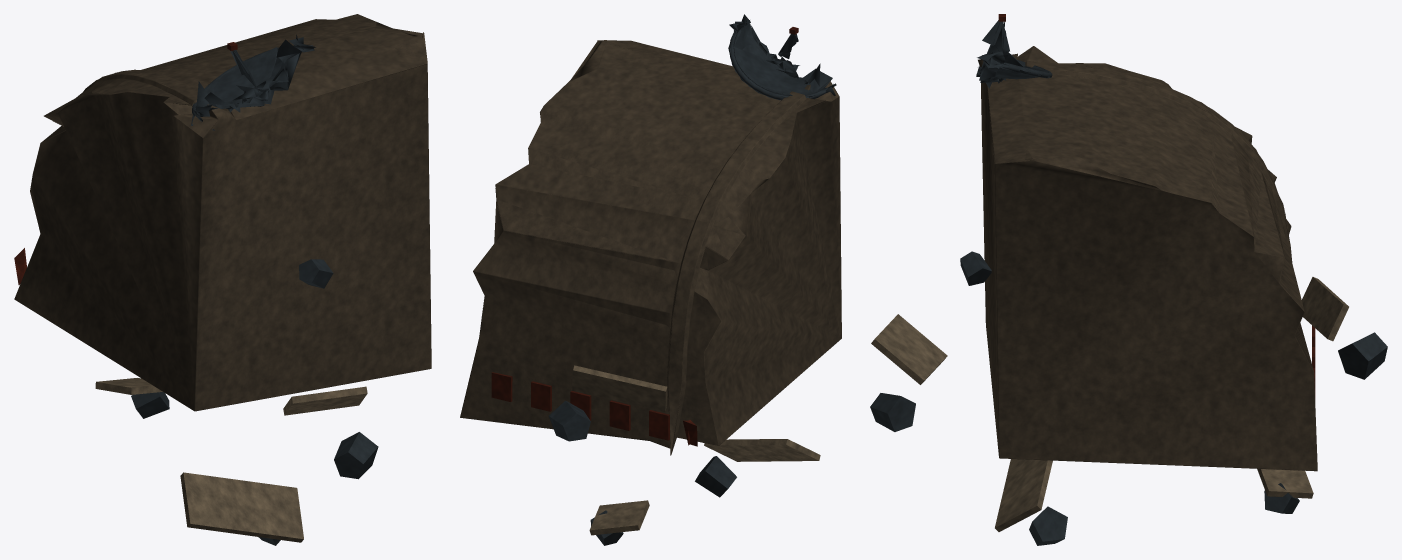
The model's file is deb_liner_hull_panel.glb.
The picture shows the model from 3 angles, left to right: view 1: azimuth 30°, elevation 25°; view 2: azimuth 150°, elevation 25°; view 3: azimuth 270°, elevation 25°; orthographic projection. The views are drawn at different scales.
Visible parts, largest first — view 1: LOD0_deb_liner_hull_panel_Material_Hull, LOD0_deb_liner_hull_panel_Material_Insulation, LOD0_deb_liner_hull_panel_Material_Structural, LOD2_deb_liner_hull_panel_Material_Hull, LOD1_deb_liner_hull_panel_Material_Hull, LOD2_deb_liner_hull_panel_Material_Structural, LOD1_deb_liner_hull_panel_Material_Structural; view 2: LOD0_deb_liner_hull_panel_Material_Hull, LOD1_deb_liner_hull_panel_Material_Hull, LOD2_deb_liner_hull_panel_Material_Hull, LOD0_deb_liner_hull_panel_Material_Insulation, LOD0_deb_liner_hull_panel_Material_Structural, LOD0_deb_liner_hull_panel_Material_Heat, LOD2_deb_liner_hull_panel_Material_Structural, LOD1_deb_liner_hull_panel_Material_Structural; view 3: LOD0_deb_liner_hull_panel_Material_Hull, LOD2_deb_liner_hull_panel_Material_Hull, LOD0_deb_liner_hull_panel_Material_Insulation, LOD0_deb_liner_hull_panel_Material_Structural, LOD1_deb_liner_hull_panel_Material_Hull.
Part boxes in pixels (x1,y1,x2,y2): LOD0_deb_liner_hull_panel_Material_Hull: (14,15,431,411); LOD0_deb_liner_hull_panel_Material_Insulation: (95,378,367,542); LOD0_deb_liner_hull_panel_Material_Structural: (131,34,378,545); LOD2_deb_liner_hull_panel_Material_Hull: (81,14,431,350); LOD1_deb_liner_hull_panel_Material_Hull: (33,19,427,243); LOD2_deb_liner_hull_panel_Material_Structural: (195,37,303,112); LOD1_deb_liner_hull_panel_Material_Structural: (192,45,301,130); LOD0_deb_liner_hull_panel_Material_Hull: (460,40,841,455); LOD1_deb_liner_hull_panel_Material_Hull: (473,40,841,453); LOD2_deb_liner_hull_panel_Material_Hull: (475,53,818,453); LOD0_deb_liner_hull_panel_Material_Insulation: (572,365,820,535); LOD0_deb_liner_hull_panel_Material_Structural: (548,14,836,545); LOD0_deb_liner_hull_panel_Material_Heat: (491,27,798,446); LOD2_deb_liner_hull_panel_Material_Structural: (729,20,832,93); LOD1_deb_liner_hull_panel_Material_Structural: (728,21,836,100); LOD0_deb_liner_hull_panel_Material_Hull: (978,46,1317,470); LOD2_deb_liner_hull_panel_Material_Hull: (994,53,1289,447); LOD0_deb_liner_hull_panel_Material_Insulation: (871,277,1348,531); LOD0_deb_liner_hull_panel_Material_Structural: (870,20,1387,545); LOD1_deb_liner_hull_panel_Material_Hull: (988,57,1317,471).
Size of the model in its own units: 16.14 by 29 by 27.12.
4 materials, 4 textured.
